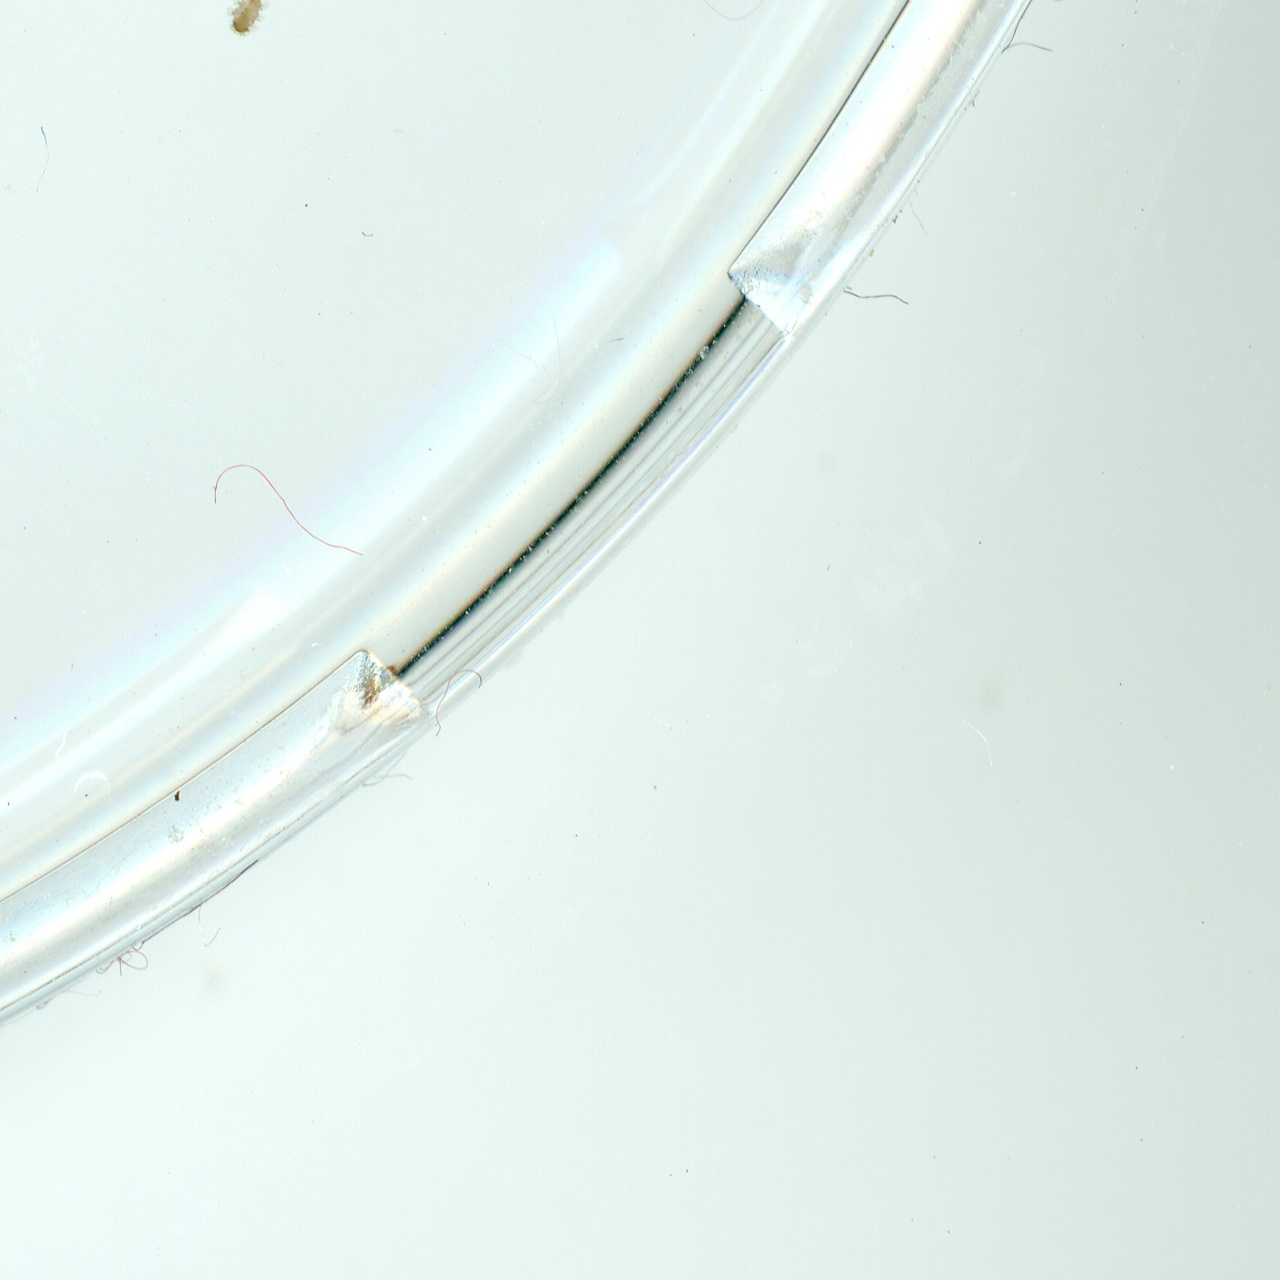arthropod: (230, 0, 273, 32)
